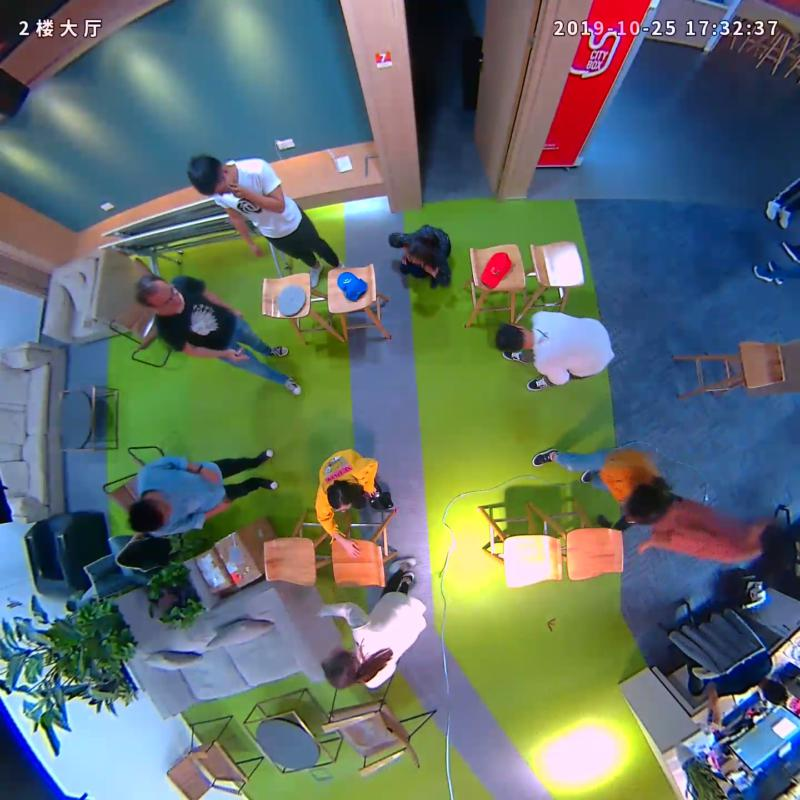head: (742, 509, 798, 568), (311, 644, 367, 697), (180, 151, 235, 203), (621, 477, 675, 526), (133, 269, 187, 316), (123, 497, 173, 541), (400, 229, 447, 275), (491, 319, 536, 362), (319, 478, 358, 515)
